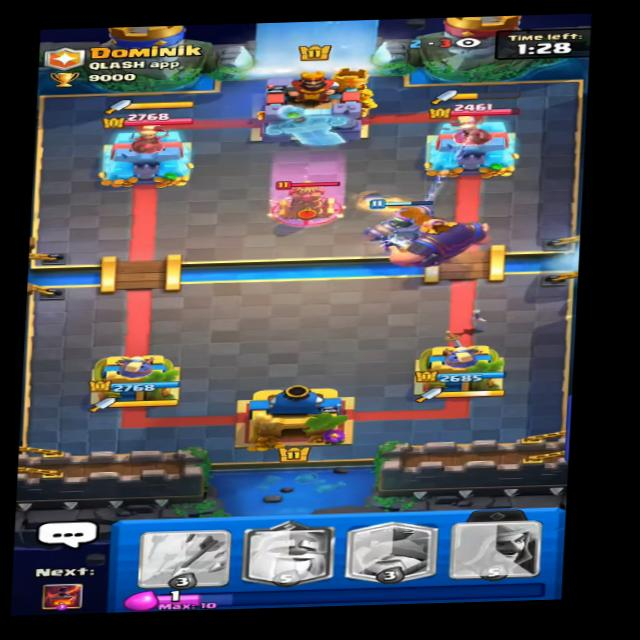tesla: (262, 173, 350, 224)
